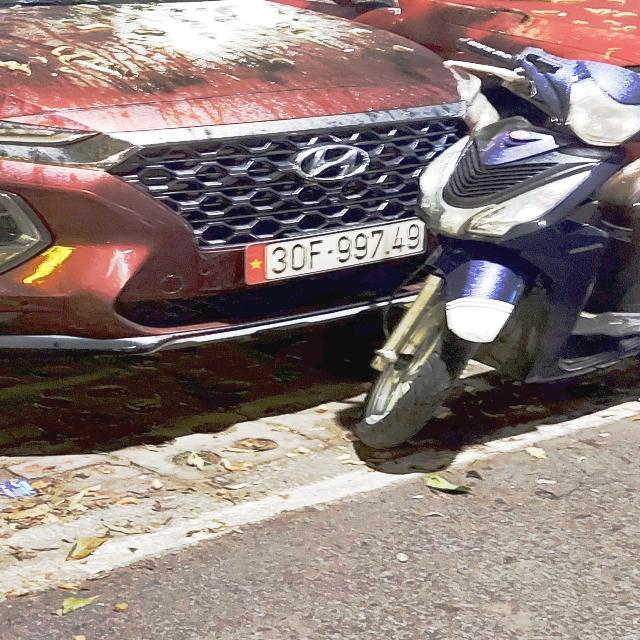license_plate: (245, 215, 431, 289)
